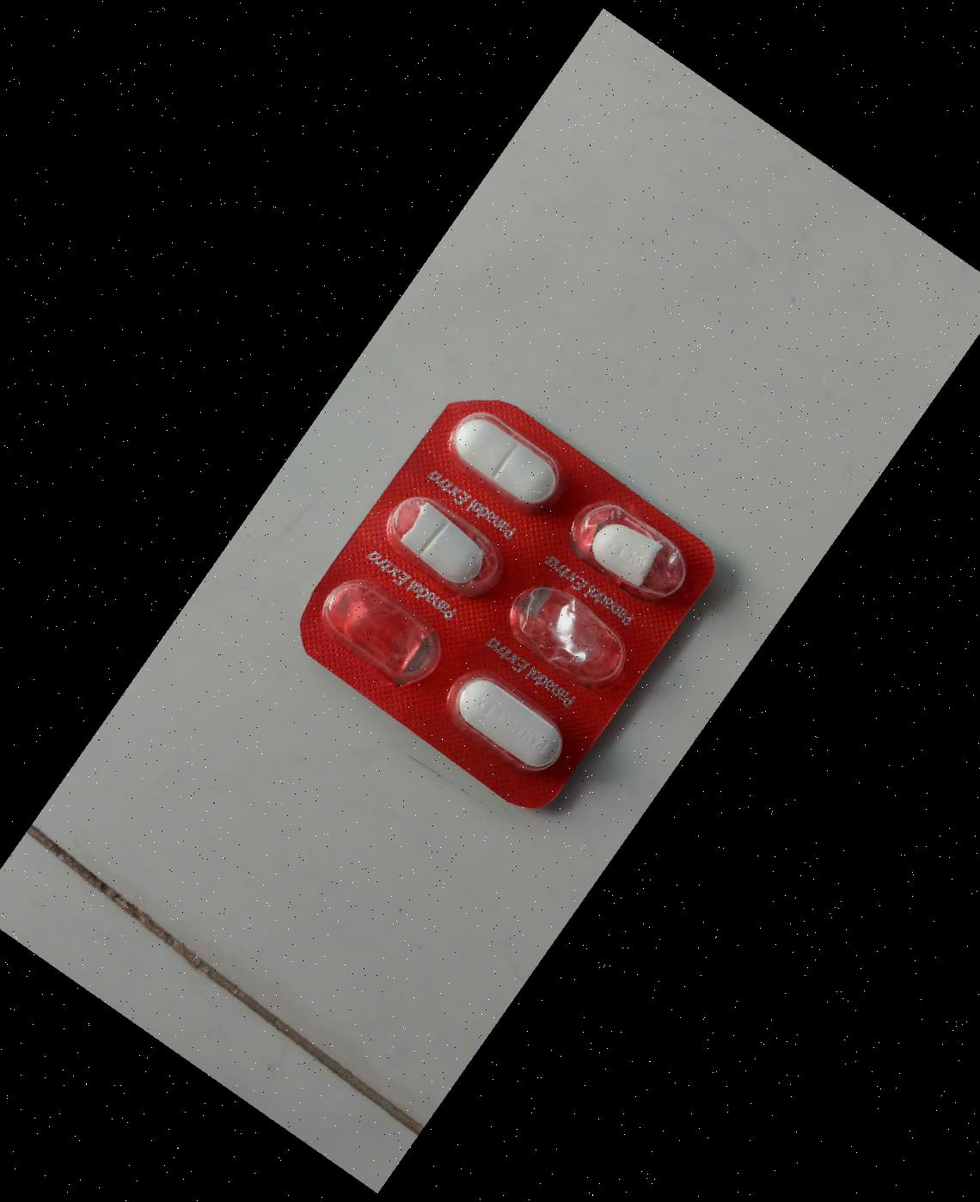Empty: (492, 565, 641, 697), (305, 565, 454, 697)
Full: (434, 654, 583, 786), (429, 393, 578, 525)
Partial: (365, 476, 514, 608), (552, 482, 701, 614)
